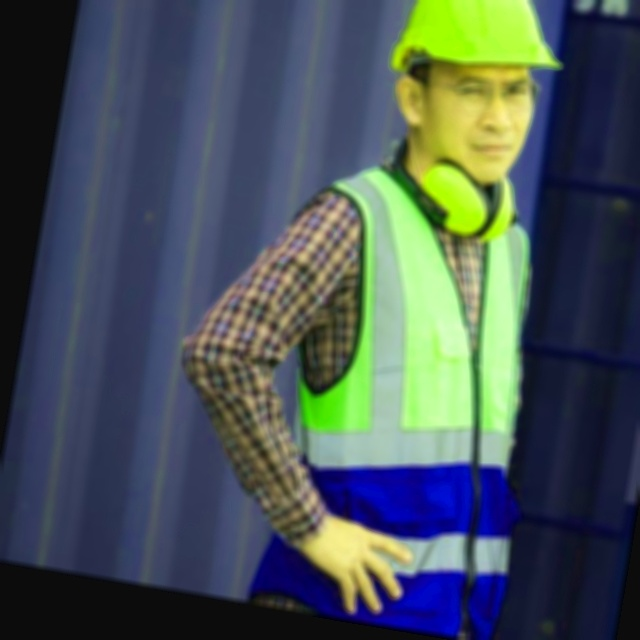Con_Casco: (372, 0, 580, 186)
Con_Chaleco: (228, 162, 557, 640)
